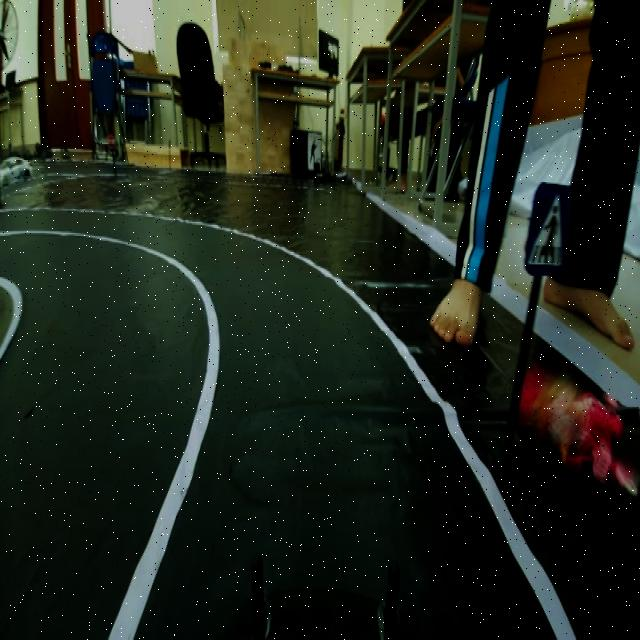crosswalk: (524, 174, 572, 277)
